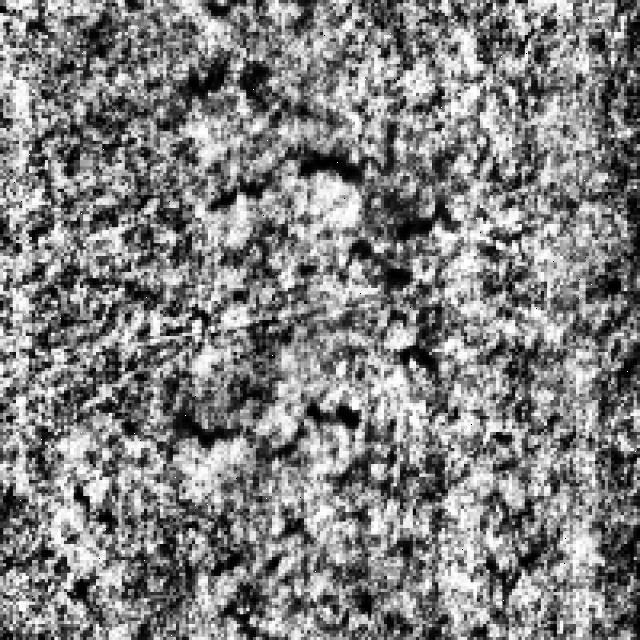Pitted_Surface: (80, 198, 448, 452), (176, 58, 365, 208)
